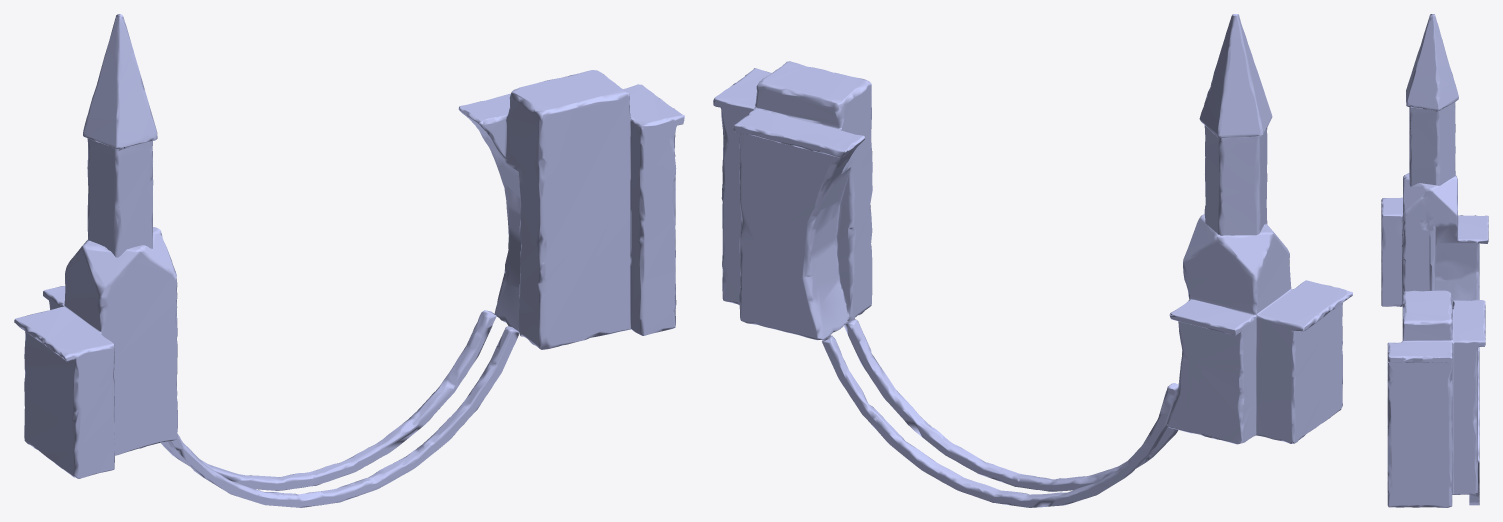
The model's file is upper_details_l_LOD2.fbx.
The picture shows the model from 3 angles, left to right: view 1: azimuth 30°, elevation 25°; view 2: azimuth 150°, elevation 25°; view 3: azimuth 270°, elevation 25°; orthographic projection. The views are drawn at different scales.
Parts seen in each view (by area): view 1: Cylinder_002_LOD2; view 2: Cylinder_002_LOD2; view 3: Cylinder_002_LOD2.
Part boxes in pixels (x1=…): Cylinder_002_LOD2: x1=14, y1=14, x2=684, y2=507; Cylinder_002_LOD2: x1=713, y1=14, x2=1352, y2=507; Cylinder_002_LOD2: x1=1381, y1=14, x2=1488, y2=507.
Size of the model in its own units: 811 by 676 by 166.
